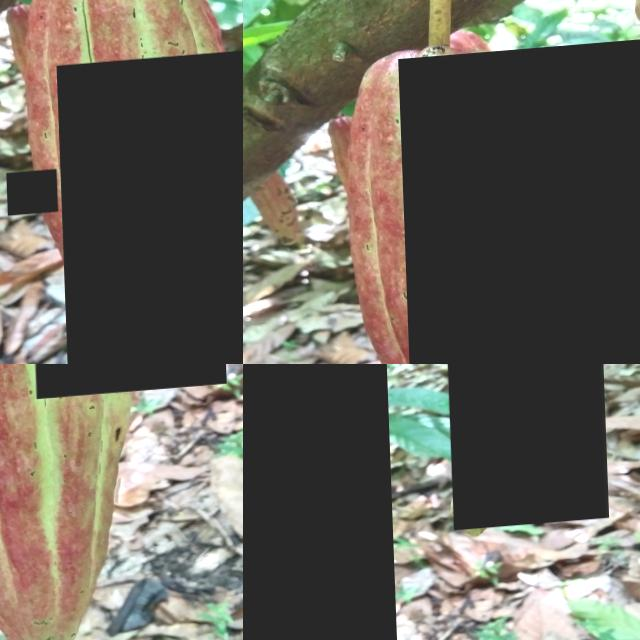Monilia: (29, 364, 223, 403)
Sana: (397, 44, 640, 364), (54, 54, 243, 364), (243, 364, 399, 640), (442, 364, 606, 537), (3, 172, 55, 217)
